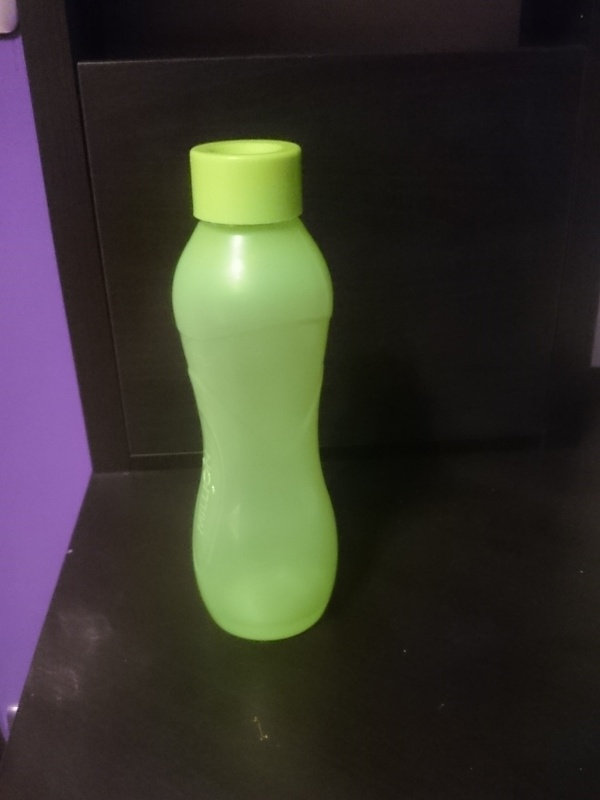my bottle: (170, 140, 338, 643)
